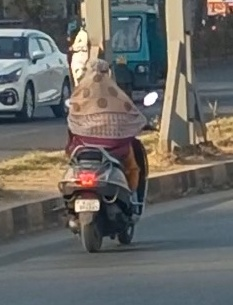BikeWithRider: (48, 53, 163, 255)
NoHelmet: (80, 55, 116, 85)
